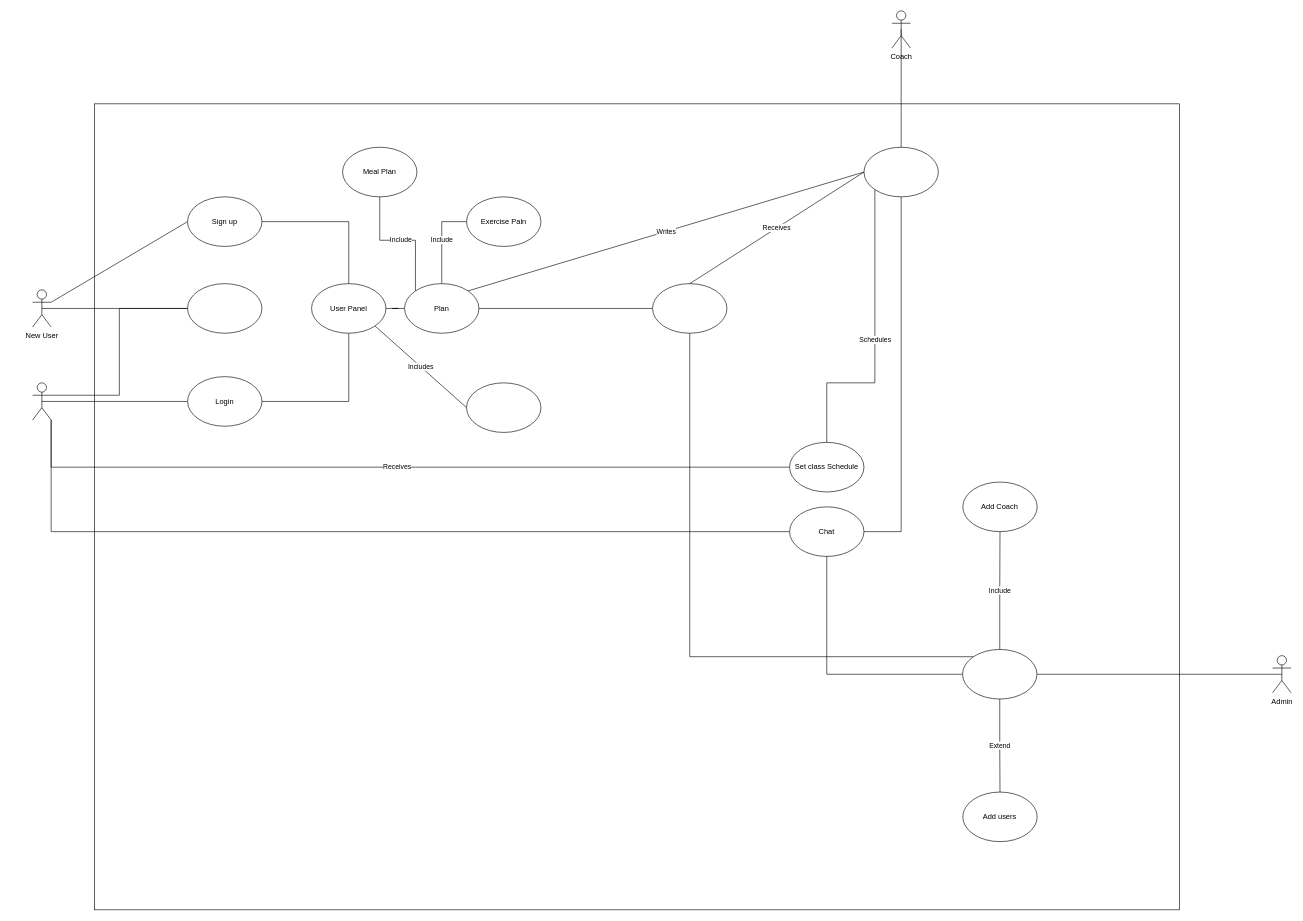
Image size: 1303x921. Some labels were removed from this diagram. Here are the shapes that lost their labels. From the top down, the box of each, then its label:
(863, 147, 938, 197): Coach Login
(187, 283, 262, 333): Explore general pages
(652, 283, 727, 333): Payment
(32, 382, 51, 420): Not logged-in User
(466, 382, 541, 432): Transactions history
(962, 649, 1037, 699): Admin Login
